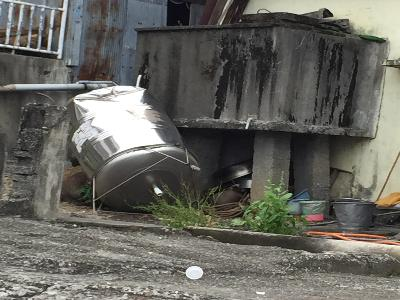bowl: (213, 160, 253, 186), (298, 198, 328, 216)
bucket: (329, 200, 377, 232)
water_tower: (63, 83, 202, 211)
